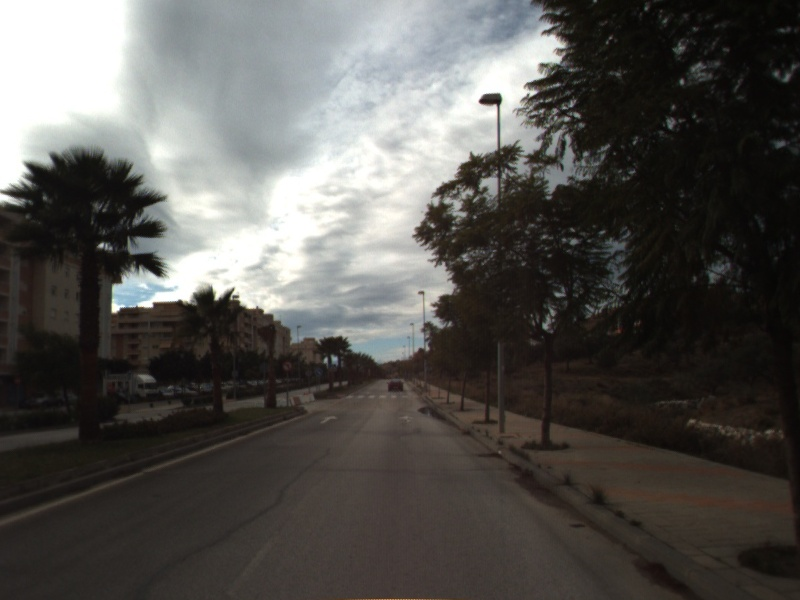STRAIGHT: (318, 413, 341, 426)
